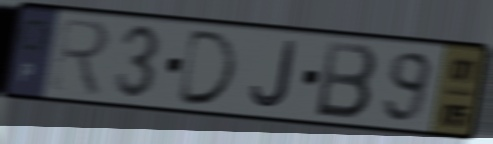3: (112, 22, 164, 102)
9: (380, 48, 436, 124)
B: (312, 38, 380, 123)
D: (174, 27, 241, 108)
J: (248, 38, 300, 112)
R: (47, 14, 113, 100)
